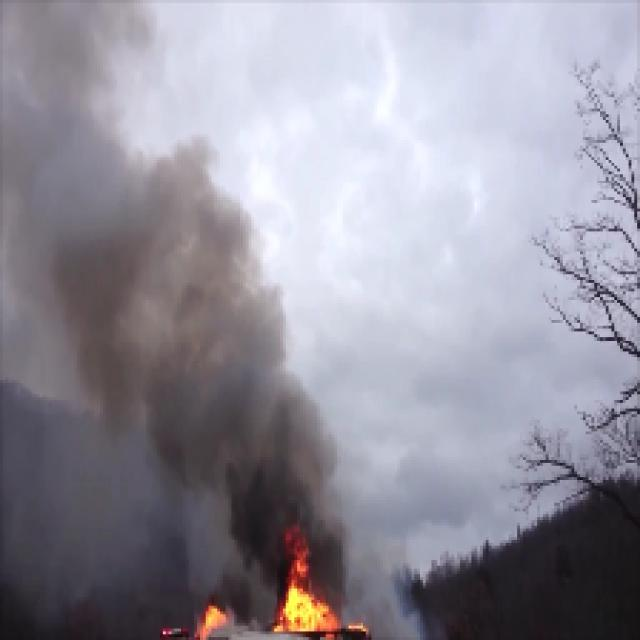fire: (278, 582, 331, 634)
smoke: (154, 272, 242, 448), (234, 429, 317, 560)
